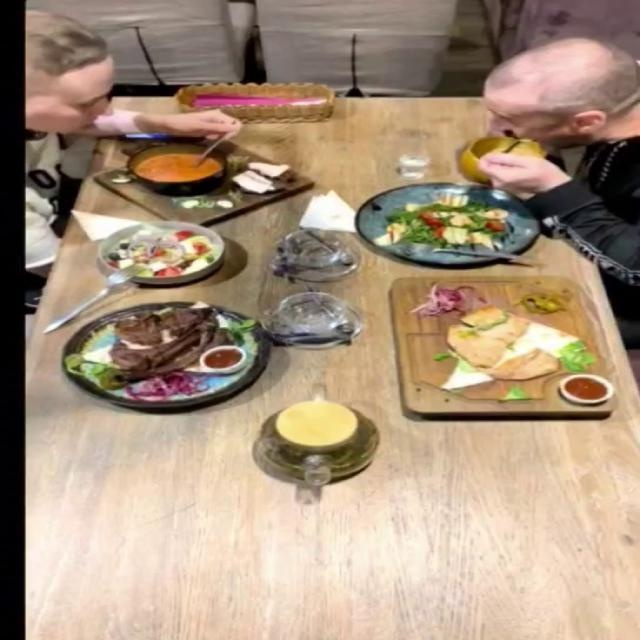meat: (387, 276, 621, 425), (61, 300, 273, 408)
salad: (357, 183, 543, 265), (95, 220, 227, 284)
soup: (91, 137, 317, 227), (460, 136, 547, 183)
tea: (234, 374, 396, 500)
